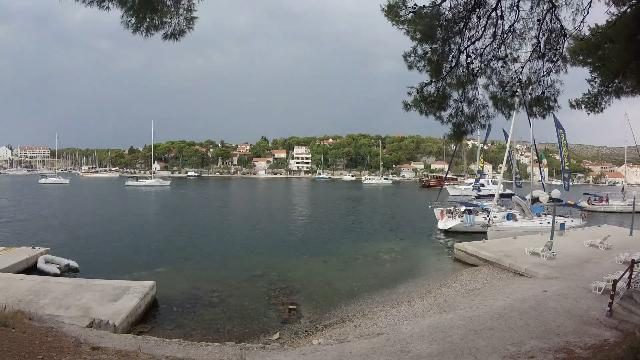Sailboat: (119, 173, 179, 190), (359, 172, 399, 187), (34, 173, 76, 187)
